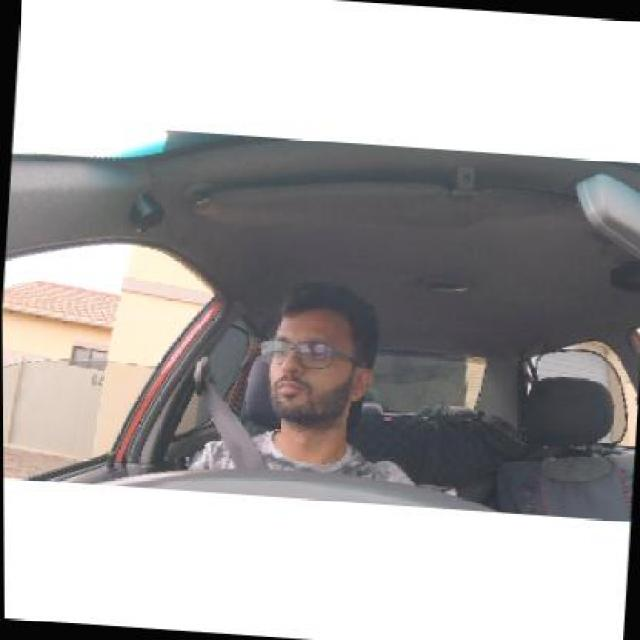person: (257, 275, 383, 428)
